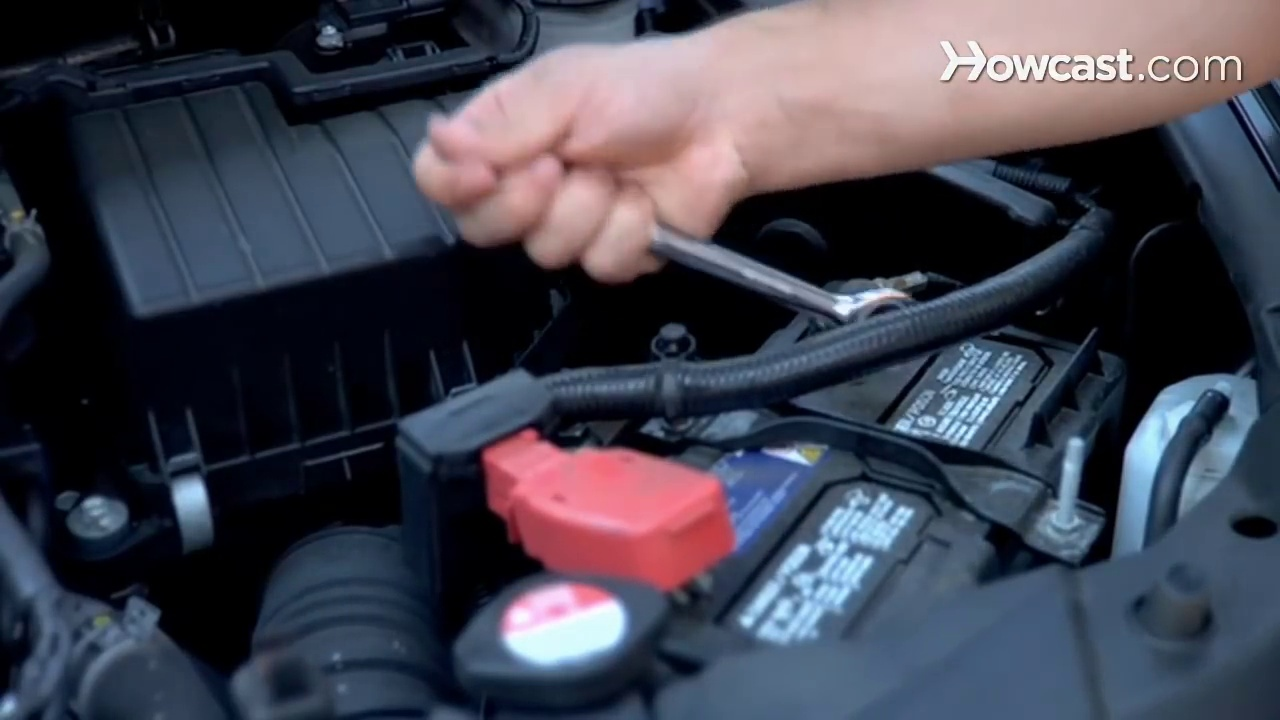battery: (506, 285, 1119, 641)
pos_connected: (432, 423, 772, 606)
